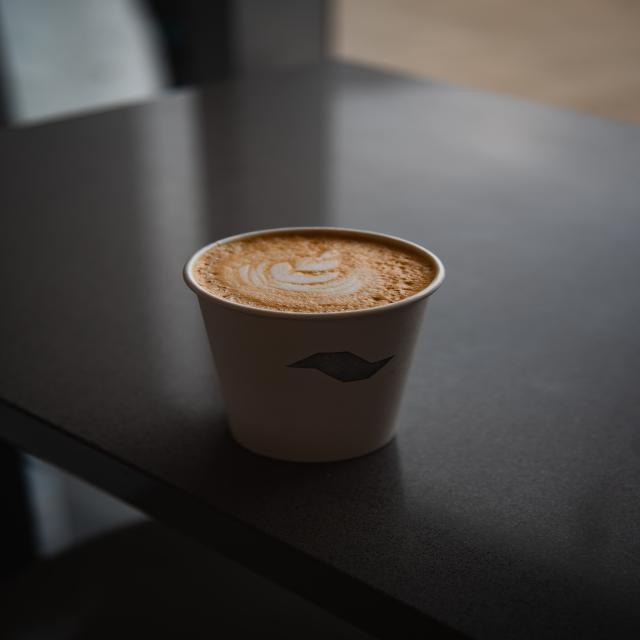cup: (185, 226, 443, 462)
